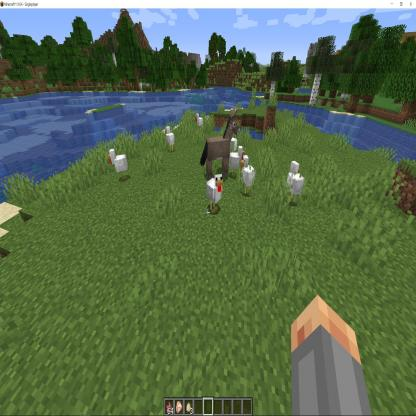minecraft-pigs: (188, 171, 237, 285)
